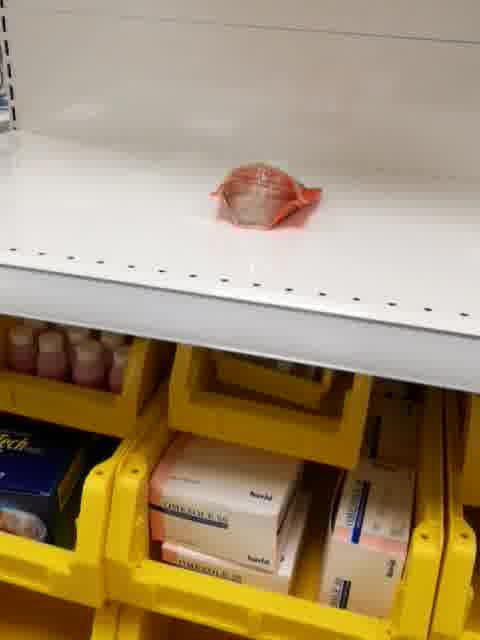whitechia: (206, 161, 327, 231)
